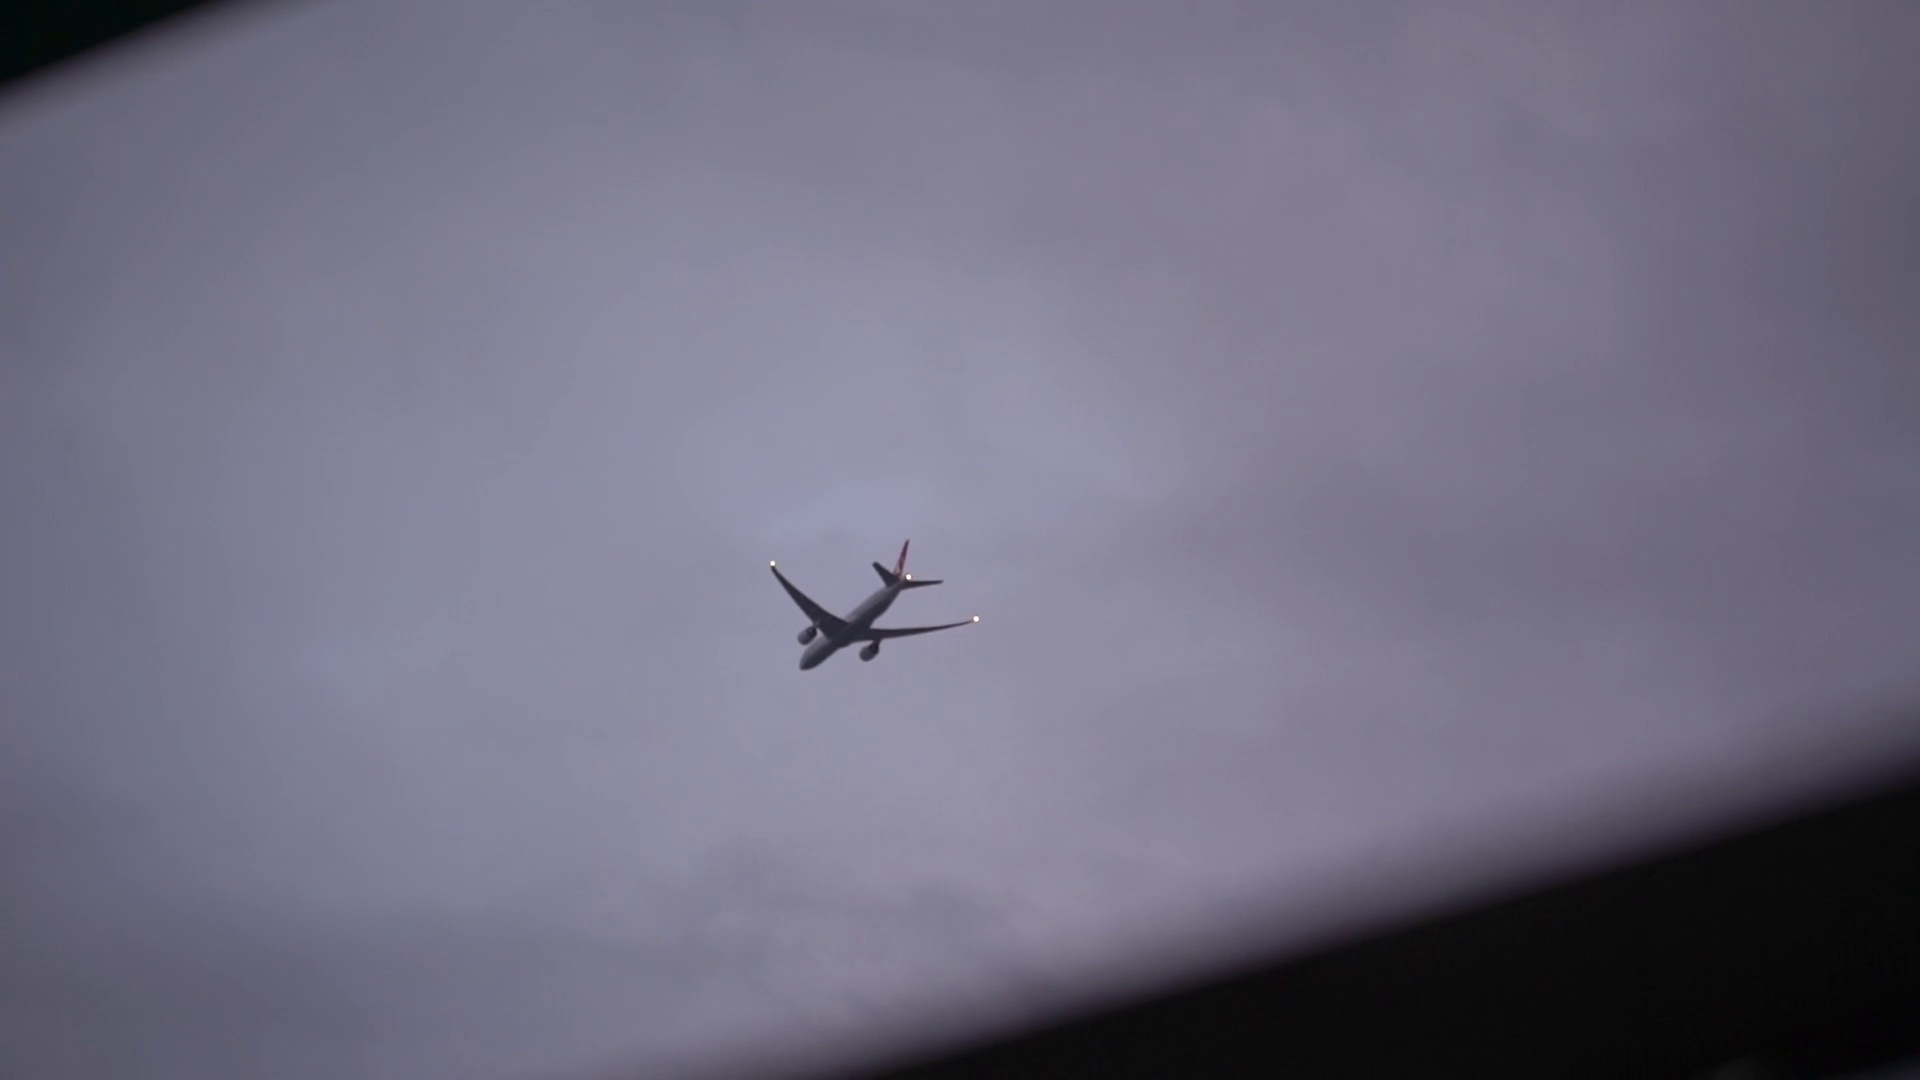plane: (770, 541, 981, 670)
